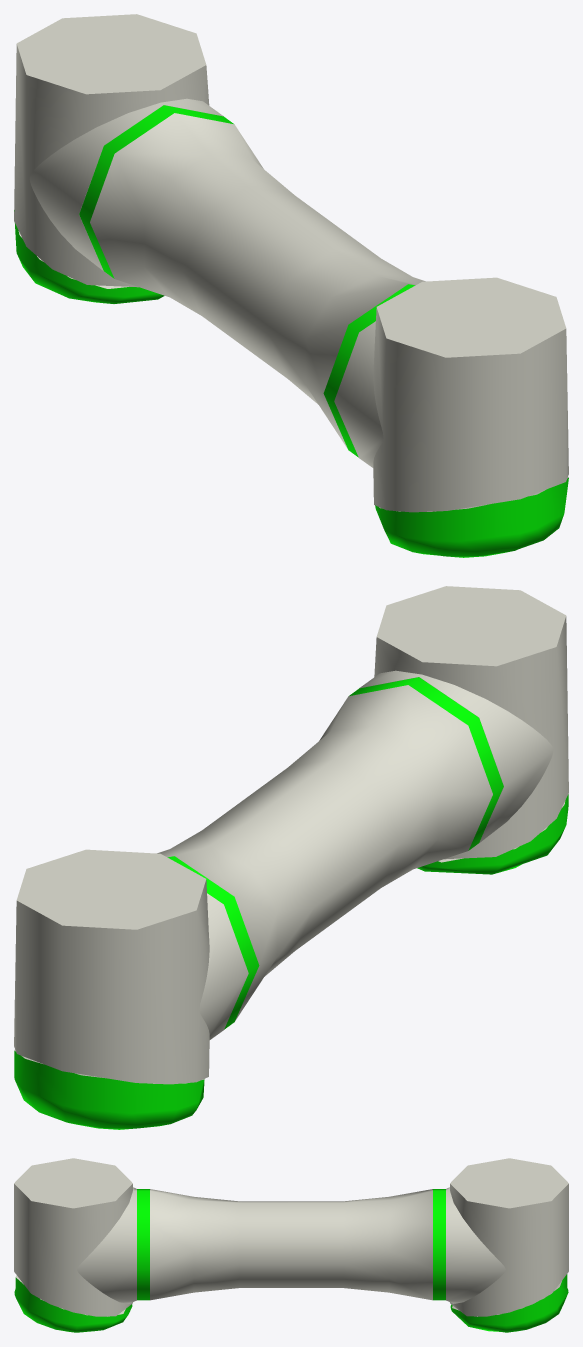
File: joint2.obj
The picture shows the model from 3 angles, top to bottom: view 1: azimuth 30°, elevation 25°; view 2: azimuth 150°, elevation 25°; view 3: azimuth 270°, elevation 25°; orthographic projection. The views are drawn at different scales.
Size of the model in its own units: 116 by 140 by 541.
